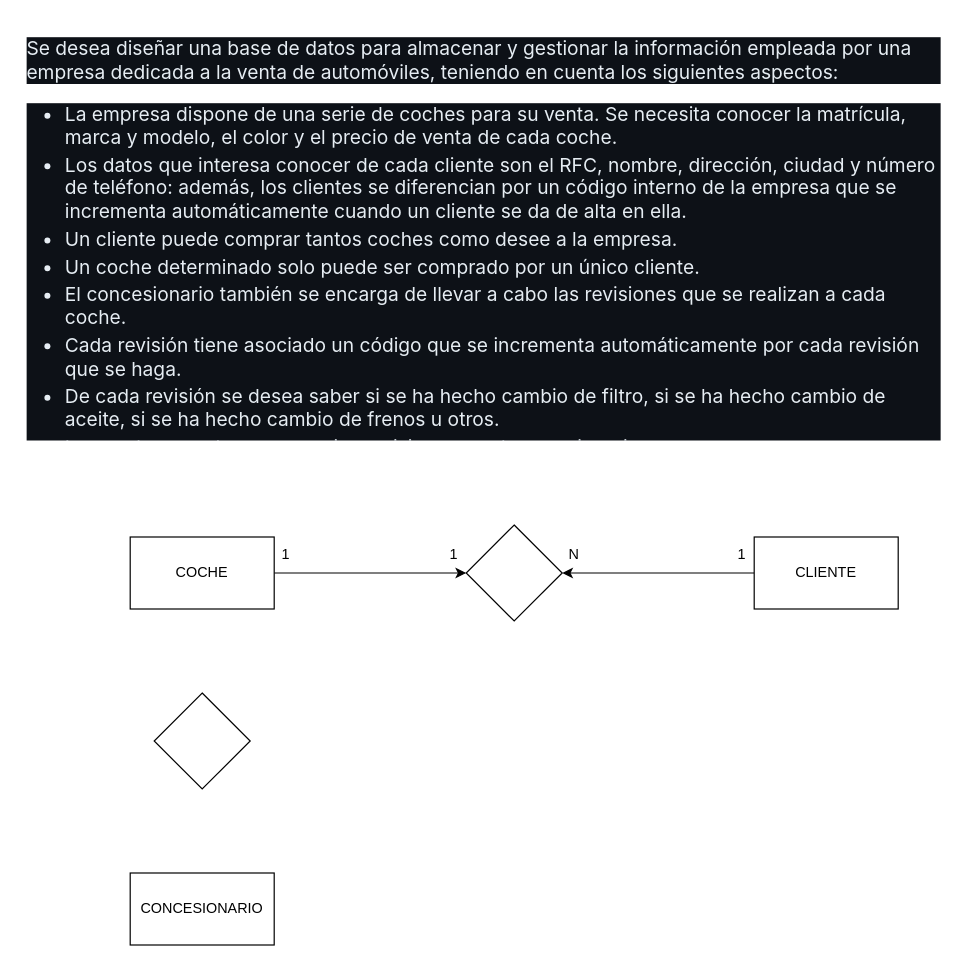
Image size: 965x966. Some labels were removed from this diagram. Each missing label, with the centre of its shape:
COMPRA: point (513, 572)
REVISIÓN: point (201, 740)
